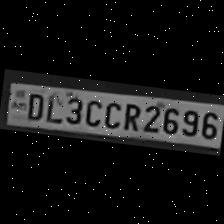2: (138, 100, 161, 134)
3: (61, 93, 83, 125)
6: (158, 103, 181, 135), (197, 108, 220, 140)
9: (177, 106, 200, 138)
C: (82, 95, 102, 126), (101, 97, 121, 128)
D: (22, 90, 44, 121)
L: (42, 91, 64, 123)
R: (118, 98, 142, 132)
